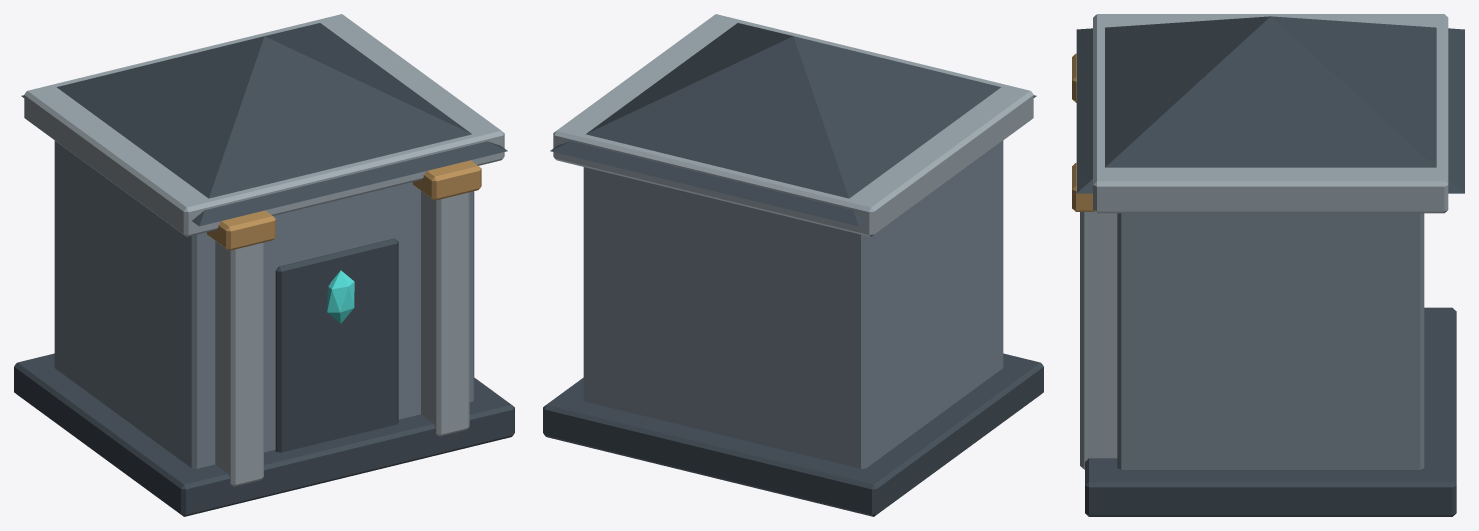
The model's file is L01R_Crypt.fbx.
The picture shows the model from 3 angles, left to right: view 1: azimuth 30°, elevation 25°; view 2: azimuth 150°, elevation 25°; view 3: azimuth 270°, elevation 25°; orthographic projection. The views are drawn at different scales.
Parts seen in each view (by area): view 1: L01R_Crypt; view 2: L01R_Crypt; view 3: L01R_Crypt.
Part boxes in pixels (left/top/right/bottom): L01R_Crypt: left=14, top=14, right=514, bottom=516; L01R_Crypt: left=543, top=14, right=1043, bottom=516; L01R_Crypt: left=1072, top=14, right=1464, bottom=516.
Bounding box in the file's own units: 260 × 283 × 243.
